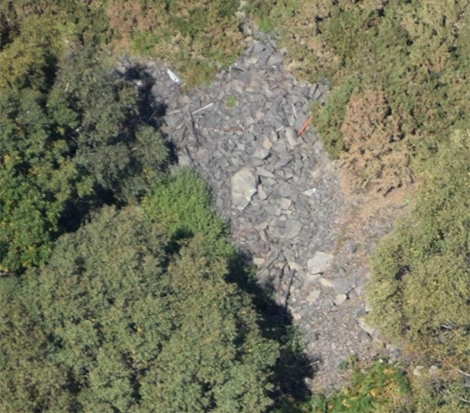white_in_green: (151, 55, 195, 97), (283, 106, 327, 148)
